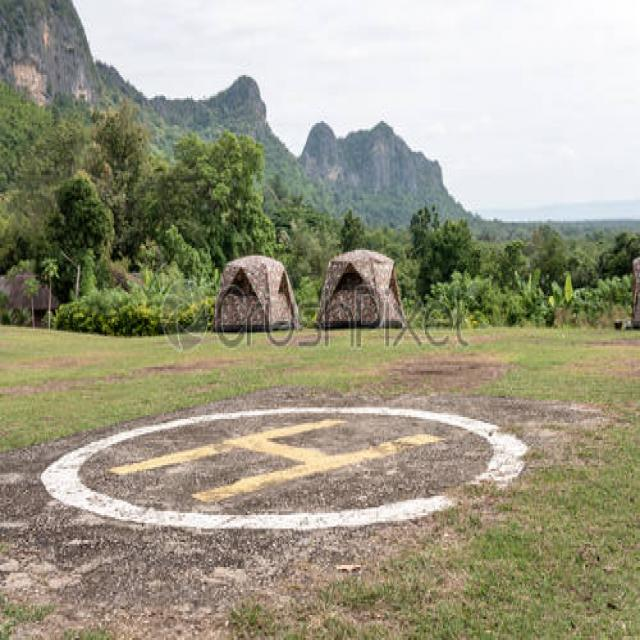helipad: (34, 394, 530, 538)
